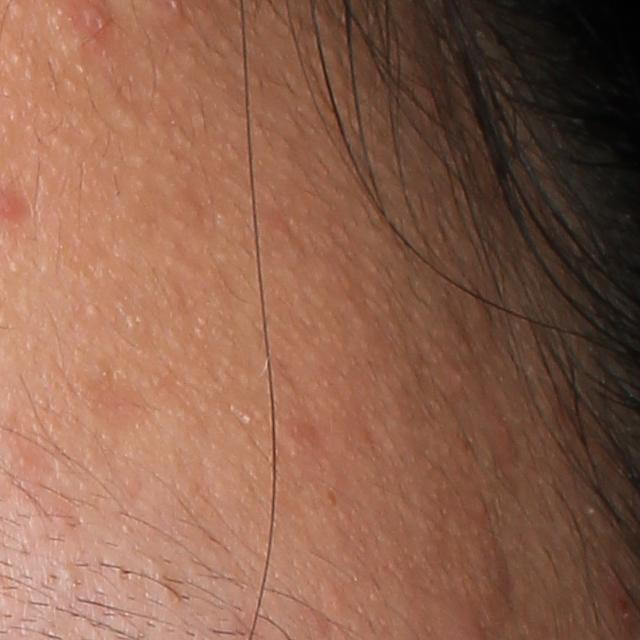comedo: (54, 558, 87, 586)
